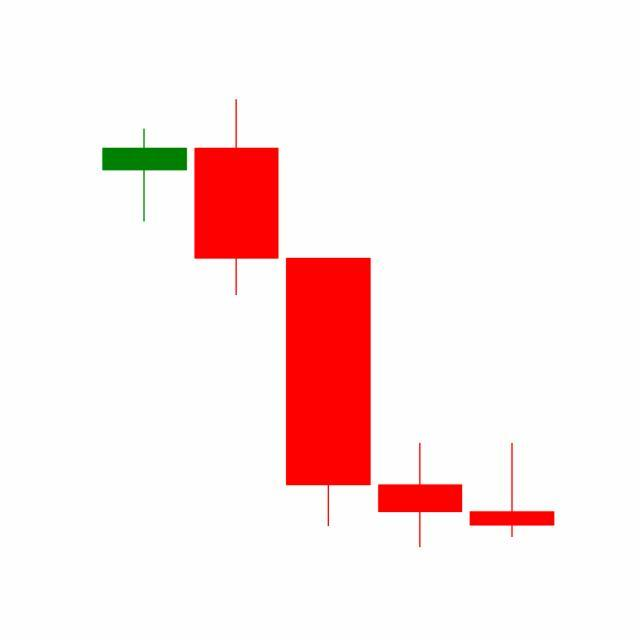Spinning Top: (374, 442, 468, 550)
